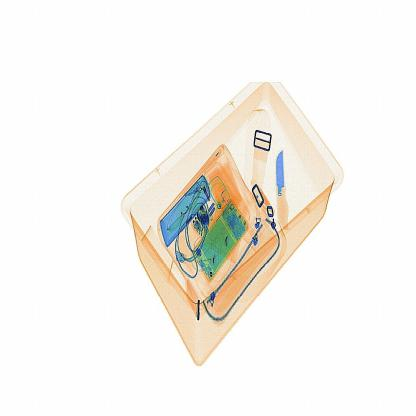wrench: (271, 150, 292, 234)
